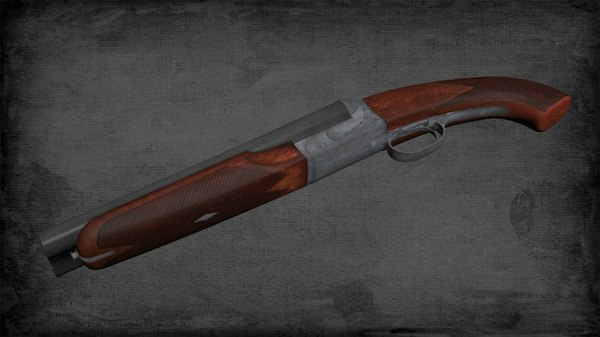weapon: (36, 76, 572, 277)
